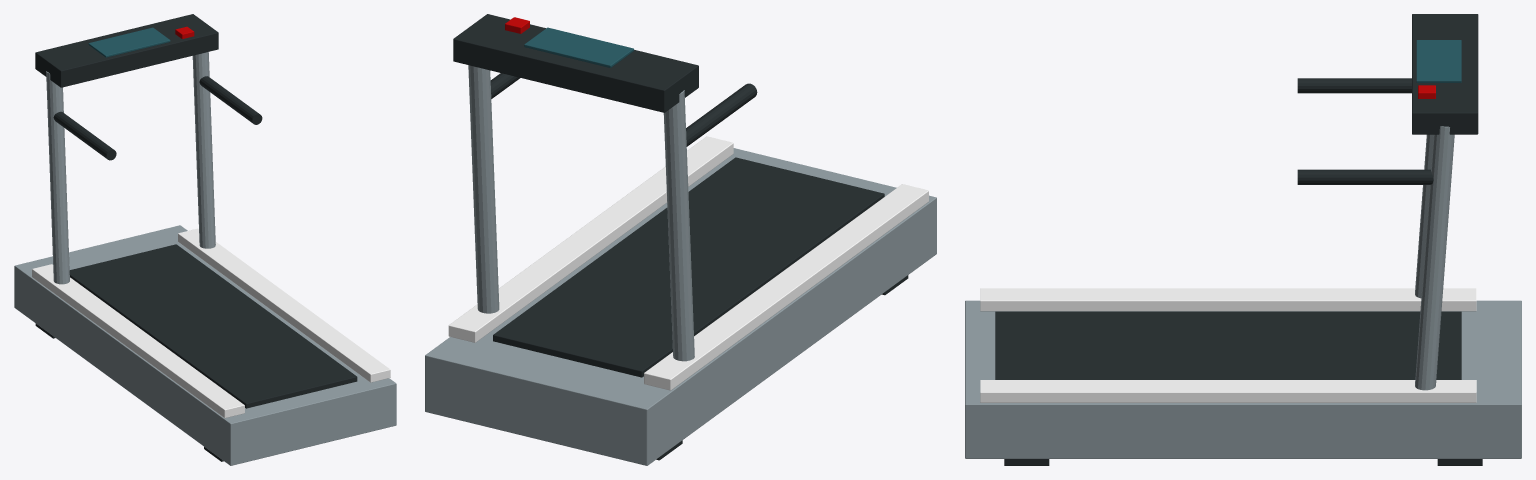
Rendered from gym-treadmill.glb.
3 views of the same model, side by side, from view 1: azimuth 30°, elevation 25°; view 2: azimuth 150°, elevation 25°; view 3: azimuth 270°, elevation 25° (orthographic). The views are drawn at different scales.
Parts seen in each view (by area): view 1: Base, Belt, Console, Side_Rail.001, Side_Rail, Upright, Upright.001, Screen, Handrail, Handrail.001; view 2: Base, Belt, Console, Side_Rail, Side_Rail.001, Upright, Upright.001, Screen, Handrail; view 3: Base, Belt, Side_Rail, Side_Rail.001, Console, Upright.001, Handrail.001, Screen, Handrail, Upright.
Boxes of the visible parts, x1,y1,x2,y2 form: Base: (14,225,396,465); Belt: (69,244,357,408); Console: (35,14,218,87); Side_Rail.001: (178,228,390,382); Side_Rail: (32,264,244,418); Upright: (46,71,69,284); Upright.001: (192,52,215,248); Screen: (88,27,170,57); Handrail: (53,111,116,160); Handrail.001: (199,76,262,124); Base: (425,148,936,465); Belt: (493,157,884,377); Console: (453,14,698,112); Side_Rail: (644,184,928,390); Side_Rail.001: (448,136,733,342); Upright: (663,90,694,361); Upright.001: (468,65,499,313); Screen: (524,27,633,67); Handrail: (686,83,757,146); Base: (965,300,1521,458); Belt: (995,311,1461,379); Side_Rail: (980,288,1476,311); Side_Rail.001: (980,380,1476,402); Console: (1412,14,1478,134); Upright.001: (1415,126,1454,390); Handrail.001: (1297,169,1433,184); Screen: (1416,40,1461,82); Handrail: (1297,78,1411,93); Upright: (1415,134,1433,298).
Size of the model in its own units: 0.82 by 1.32 by 1.85.
